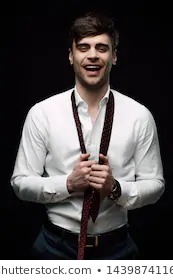F_belt: (42, 220, 130, 241)
F_shirt: (14, 85, 164, 231)
